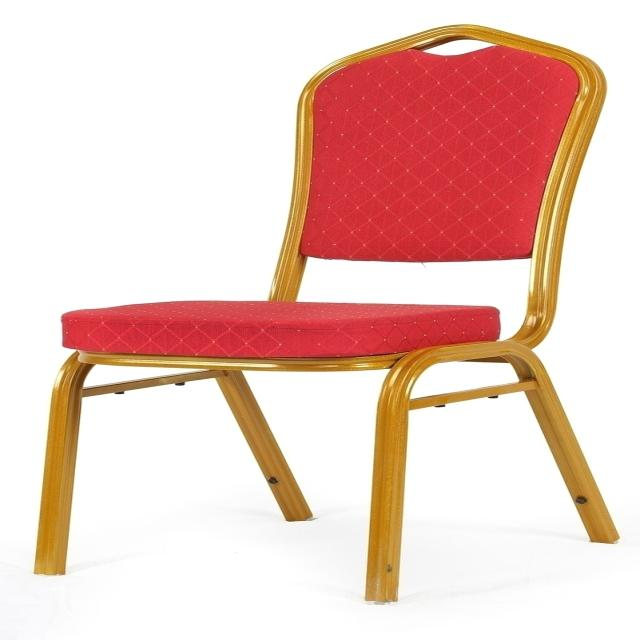Chair: (31, 19, 632, 605)
